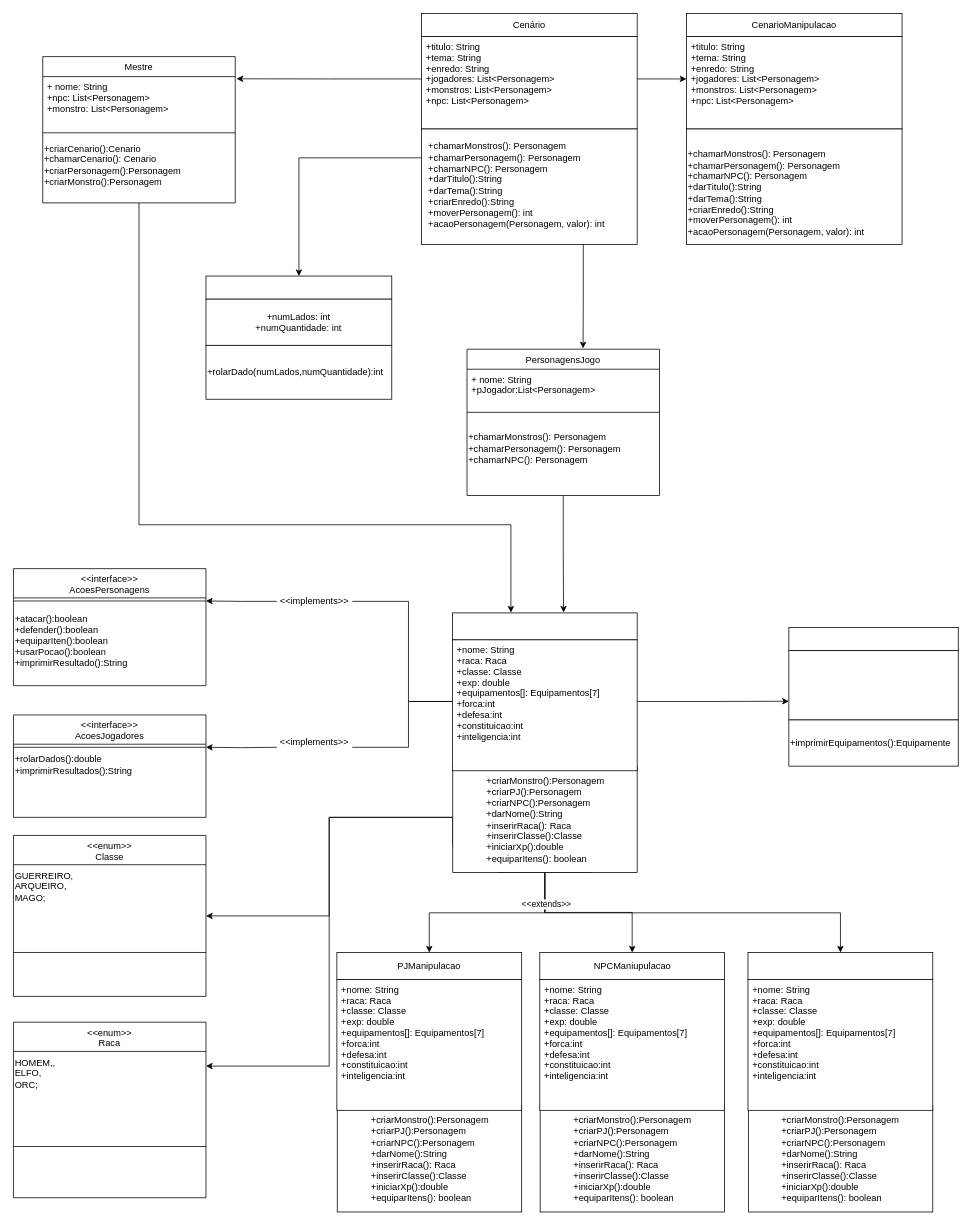
Image size: 972x1226. Some labels were removed from this diagram. The centre of each missing label's shape, as x and y in pixels:
+ nome: String + dano: double + defesa: double + pocoes: boolean: the point at 873,685
Dados: the point at 298,287
Equipamentos: the point at 873,639
MonstrosManipulacao: the point at 840,965
Personagem: the point at 544,626
